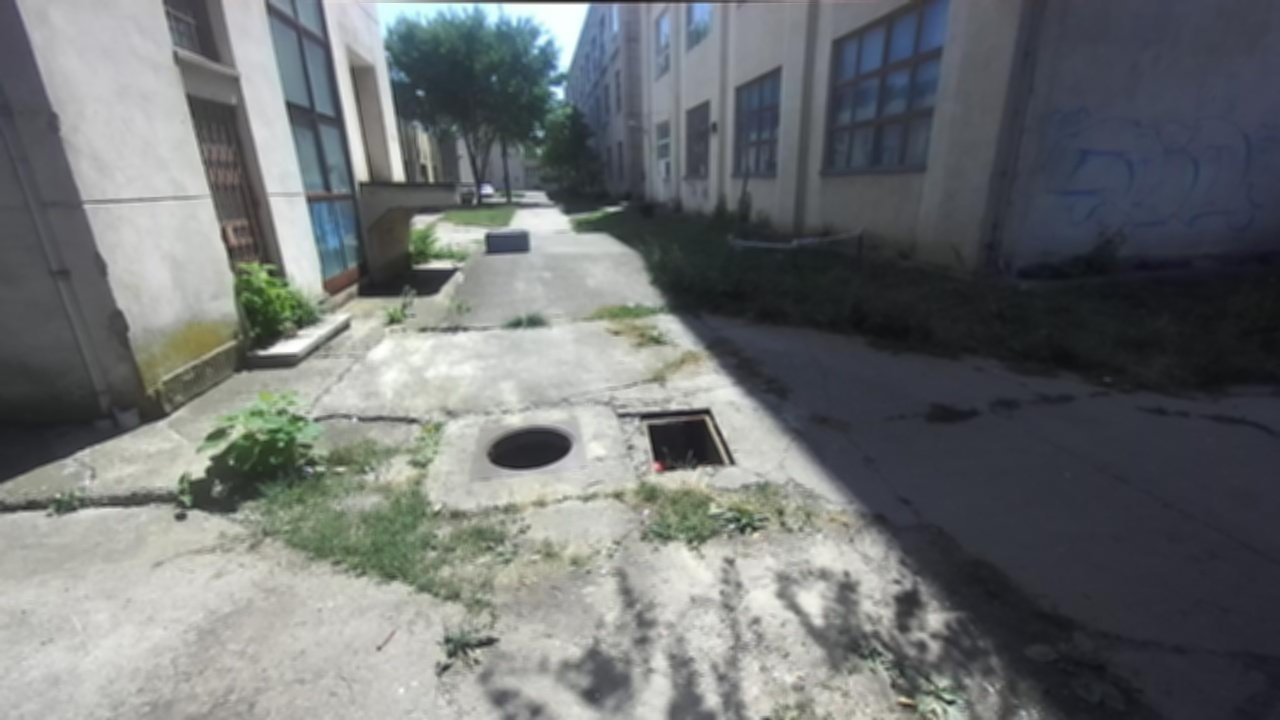drain: (634, 403, 741, 469), (478, 421, 582, 469)
